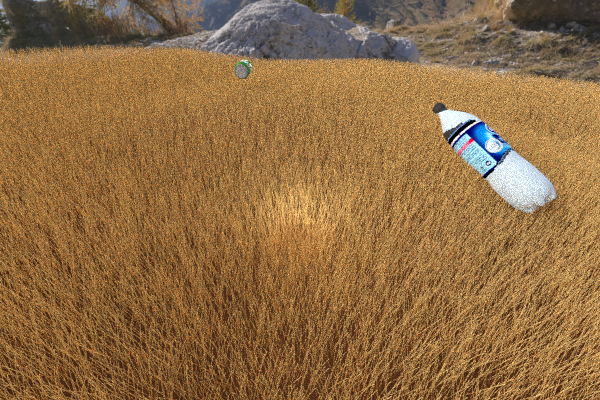bottle: (432, 102, 556, 213)
can: (146, 100, 209, 134), (233, 59, 252, 79)
